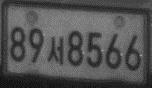5: (85, 31, 103, 68)
6: (123, 33, 142, 70), (104, 32, 122, 70)
8: (9, 25, 26, 62), (67, 30, 83, 66)
9: (28, 27, 44, 63)
서: (47, 35, 64, 66)
